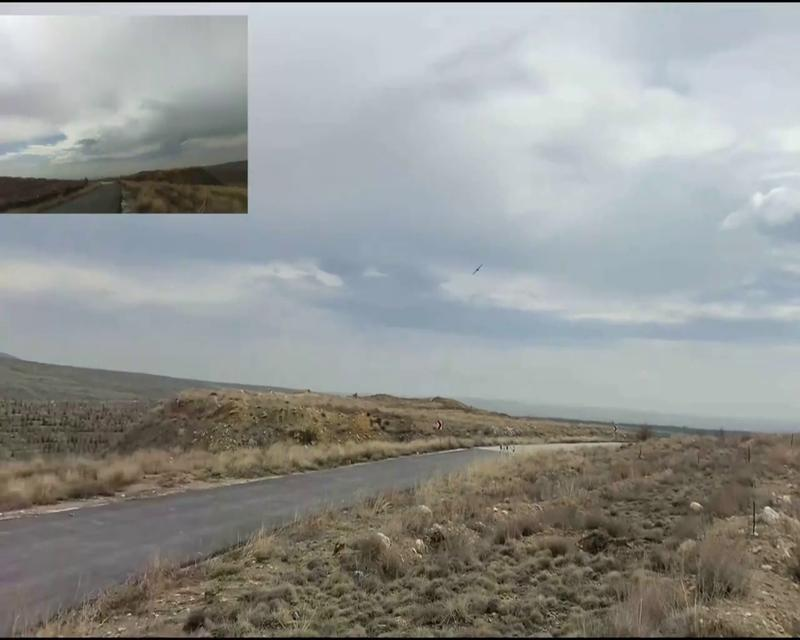UAV: (473, 264, 483, 276)
